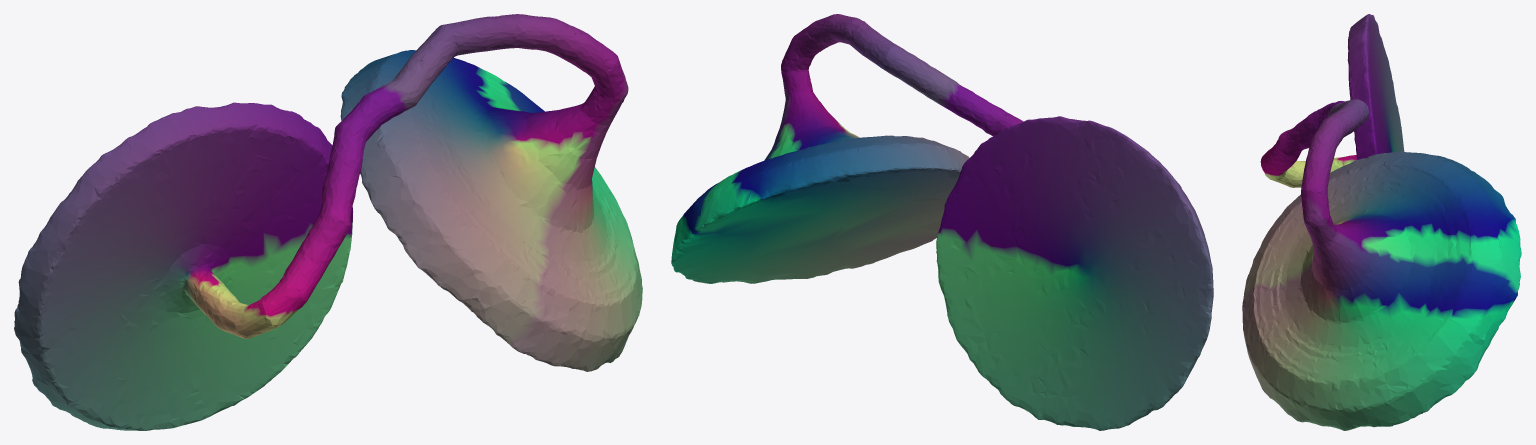
File: lamp-9.off.obj
3 renders of one model, left to right at view 1: azimuth 30°, elevation 25°; view 2: azimuth 150°, elevation 25°; view 3: azimuth 270°, elevation 25°, orthographic. The views are drawn at different scales.
Size of the model in its own units: 1.66 by 0.9694 by 0.8253.
